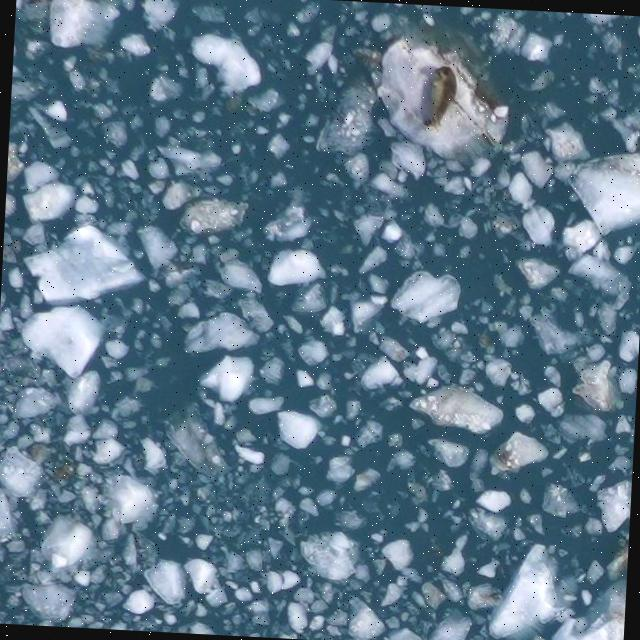seal: (422, 65, 458, 133)
